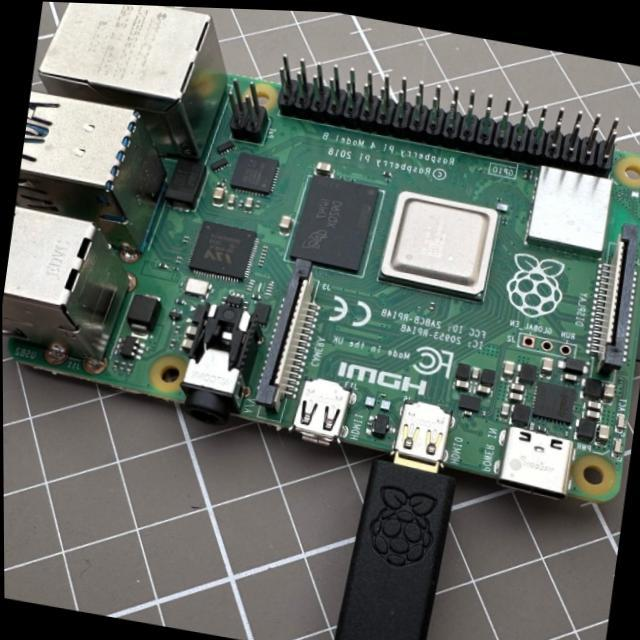Raspberry-Pi-4-B: (5, 5, 640, 502)
